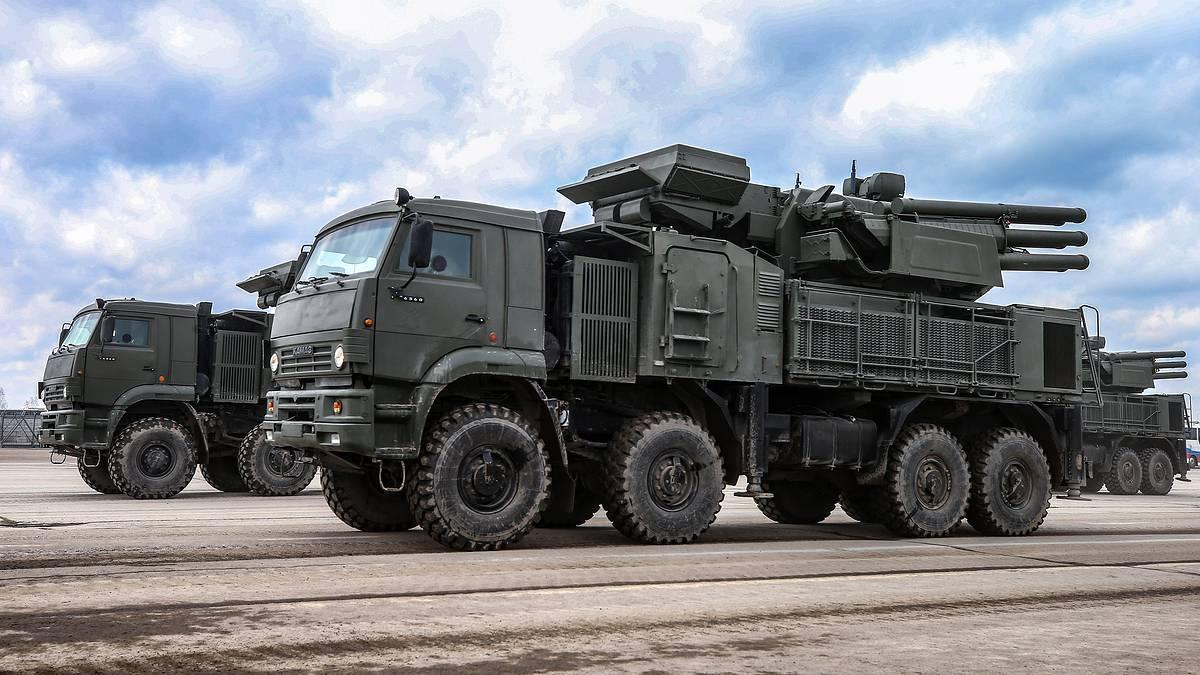truck: (265, 119, 1092, 569), (11, 266, 281, 524), (1060, 294, 1200, 514)
